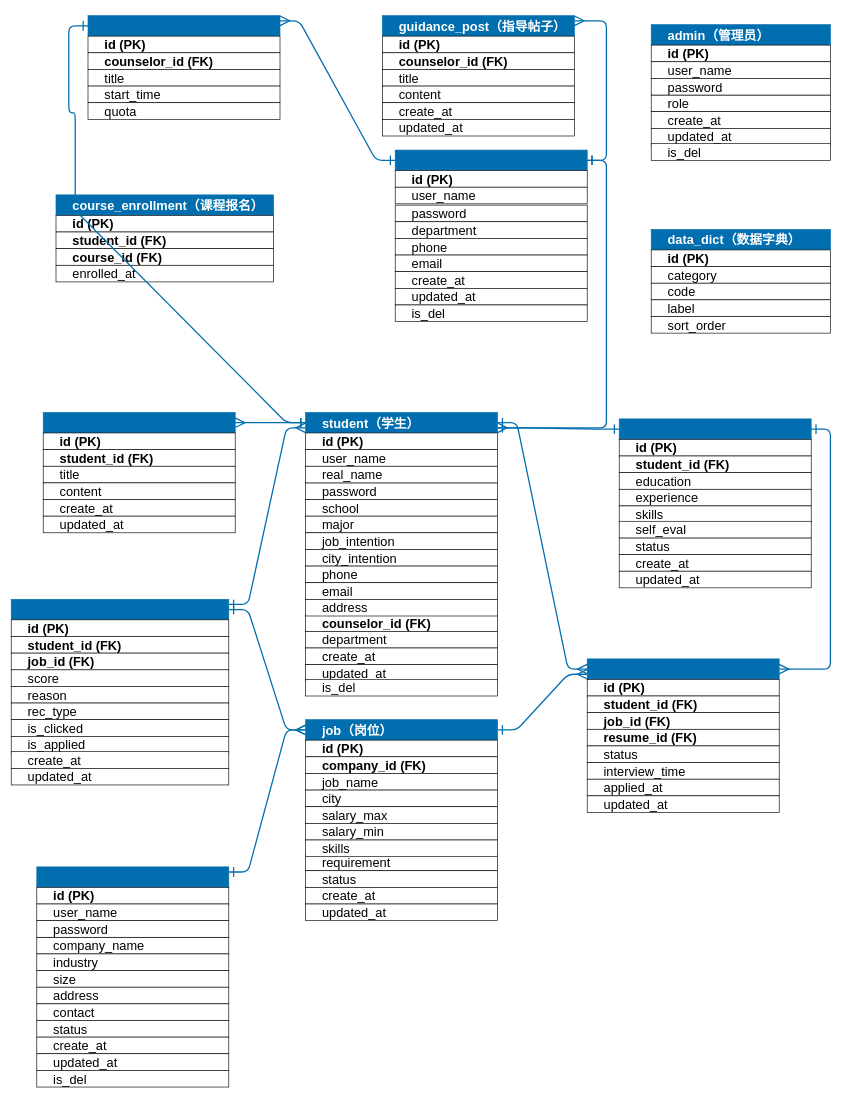
Some shapes in this 852 by 1098 pixel diagram are drawn without their labels. Each missing label, with the centre of its shape:
"application（应聘记录）" goes at pixel 683 668.
"company（企业）" goes at pixel 132 876.
"counselor（辅导员）" goes at pixel 491 160.
"course (公开课)" goes at pixel 183 25.
"forum_post（交流帖子）" goes at pixel 139 422.
"recommendation_log（推荐日志）" goes at pixel 120 609.
"resume（简历）" goes at pixel 715 428.
